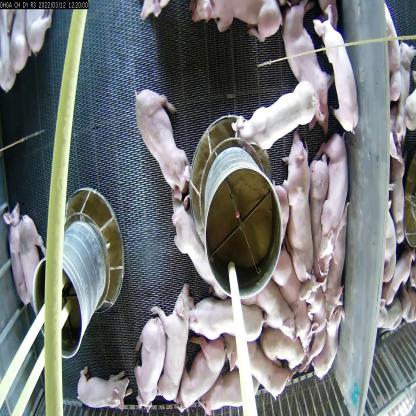Pig: (276, 0, 340, 141), (230, 76, 319, 163), (131, 83, 189, 202), (312, 7, 362, 140), (286, 131, 324, 284), (169, 198, 226, 298), (231, 327, 289, 411), (299, 151, 334, 282), (157, 277, 191, 405), (189, 0, 280, 46), (188, 294, 271, 344), (306, 278, 344, 387), (268, 264, 312, 353), (316, 137, 348, 259), (128, 311, 166, 412), (72, 350, 131, 415), (178, 339, 228, 415), (0, 197, 29, 309), (195, 359, 253, 415), (16, 210, 46, 312), (298, 277, 326, 378), (257, 284, 295, 345)
